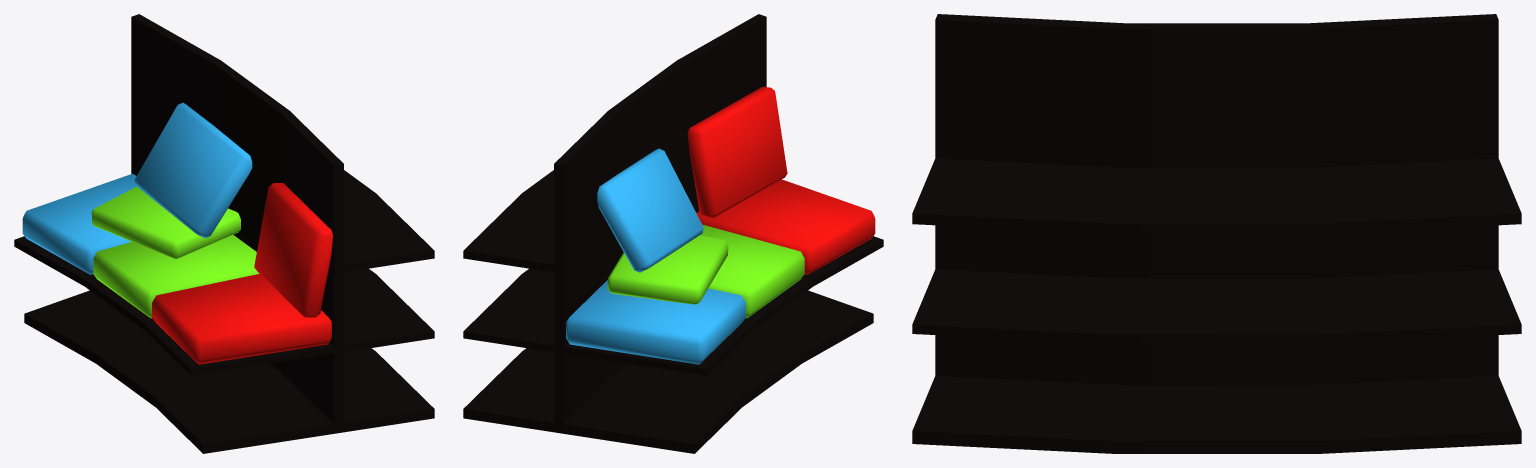
File: BanBliothèque_Pattern1.FBX
3 renders of one model, left to right at view 1: azimuth 30°, elevation 25°; view 2: azimuth 150°, elevation 25°; view 3: azimuth 270°, elevation 25°, orthographic. The views are drawn at different scales.
Visible parts, largest first — view 1: Box001; view 2: Box001; view 3: Box001.
Part boxes in pixels (x1=…): Box001: x1=14, y1=14, x2=434, y2=453; Box001: x1=463, y1=14, x2=883, y2=453; Box001: x1=912, y1=14, x2=1521, y2=453.
Bounding box in the file's own units: 82.99 × 90.06 × 135.
